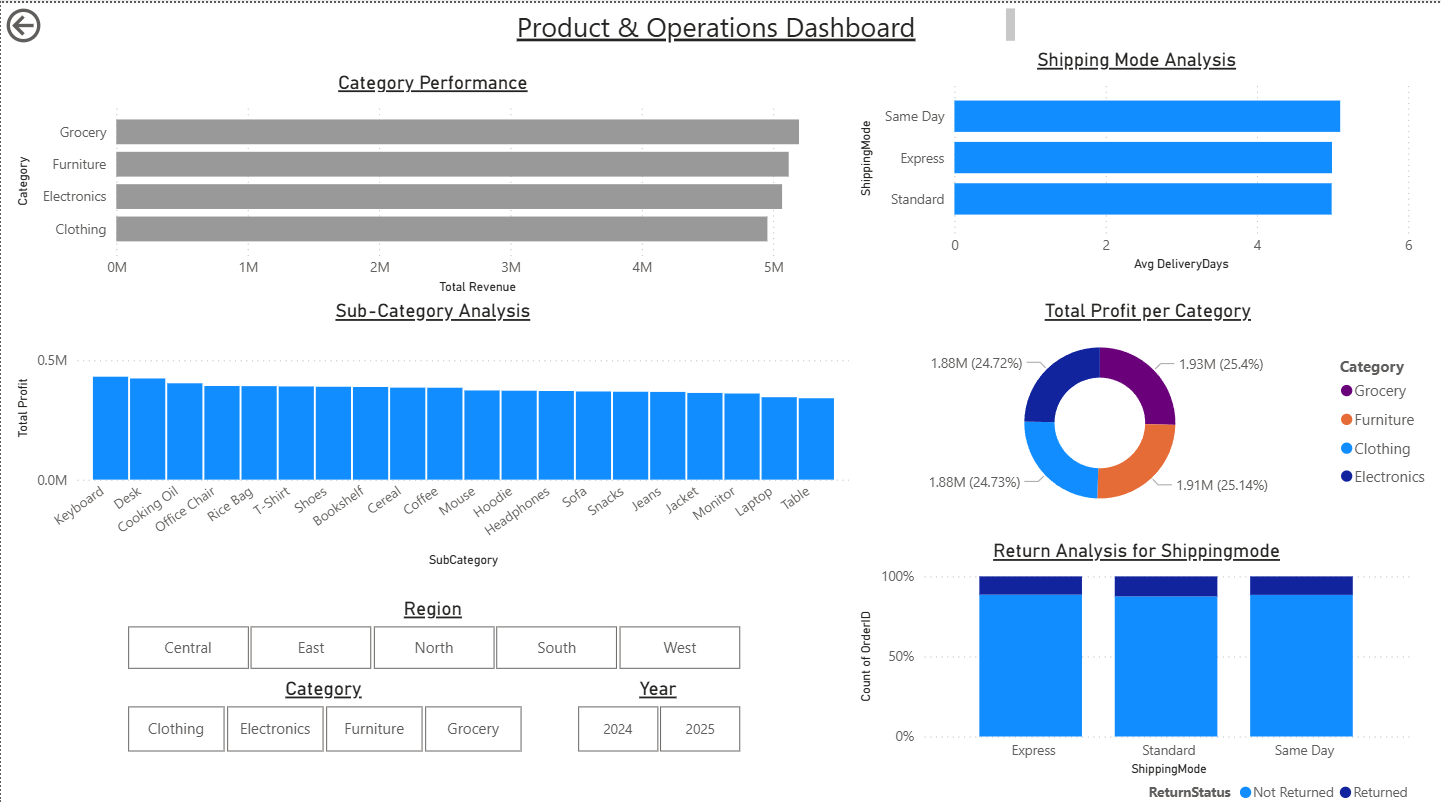

This screenshot's page, from the dashboard's own definition file:
{"tool":"powerbi","page":{"name":"Product & Operations","canvas":[1280,720],"ordinal":2},"visuals":[{"type":"clusteredBarChart","title":"Category Performance","fields":{"Category":["Retail_sales_cleaned.Category"],"Y":["Sum(Retail_sales_cleaned.Revenue)"]},"box":[8.9,60,750,203.3],"z":0},{"type":"columnChart","title":"Sub-Category Analysis","fields":{"Category":["Retail_sales_cleaned.SubCategory"],"Y":["Sum(Retail_sales_cleaned.Profit)"]},"box":[8.9,263.3,750,243.3],"z":1000},{"type":"clusteredBarChart","title":"Shipping Mode Analysis","fields":{"Category":["Retail_sales_cleaned.ShippingMode"],"Y":["Avg(Retail_sales_cleaned.DeliveryDays)"]},"box":[758.9,40,501.1,203.3],"z":2000},{"type":"donutChart","title":"Total Profit per Category","fields":{"Category":["Retail_sales_cleaned.Category"],"Y":["Sum(Retail_sales_cleaned.Profit)"]},"box":[758.9,263.3,521.1,201.1],"z":3000},{"type":"hundredPercentStackedColumnChart","title":"Return Analysis for Shippingmode","fields":{"Category":["Retail_sales_cleaned.ShippingMode"],"Series":["Retail_sales_cleaned.ReturnStatus"],"Y":["CountNonNull(Retail_sales_cleaned.OrderID)"]},"box":[758.9,476.7,501.1,243.3],"z":4000},{"type":"slicer","title":"Category","fields":{"Values":["Retail_sales_cleaned.Category"]},"box":[86.7,598.9,400,73.3],"z":5000},{"type":"slicer","title":"Region","fields":{"Values":["Retail_sales_cleaned.Region"]},"box":[86.7,527.8,594.4,71.1],"z":6000},{"type":"slicer","title":"Year","fields":{"Values":["Retail_sales_cleaned.Year"]},"box":[486.7,598.9,194.4,73.3],"z":7000},{"type":"actionButton","box":[0,0,100,40],"z":8000},{"type":"textbox","box":[373.3,0,533.3,40],"z":9000}]}

Visuals, with their boxes in screenshot pixels (x1, y1, x2, y2), scaled from the page's 1280x720 canvas onto the 1441x802 screenshot:
"Category Performance" clusteredBarChart: rect(10, 67, 854, 293)
"Sub-Category Analysis" columnChart: rect(10, 293, 854, 564)
"Shipping Mode Analysis" clusteredBarChart: rect(854, 45, 1418, 271)
"Total Profit per Category" donutChart: rect(854, 293, 1440, 517)
"Return Analysis for Shippingmode" hundredPercentStackedColumnChart: rect(854, 531, 1418, 801)
"Category" slicer: rect(98, 667, 548, 749)
"Region" slicer: rect(98, 588, 767, 667)
"Year" slicer: rect(548, 667, 767, 749)
actionButton: rect(0, 0, 113, 45)
textbox: rect(420, 0, 1021, 45)
